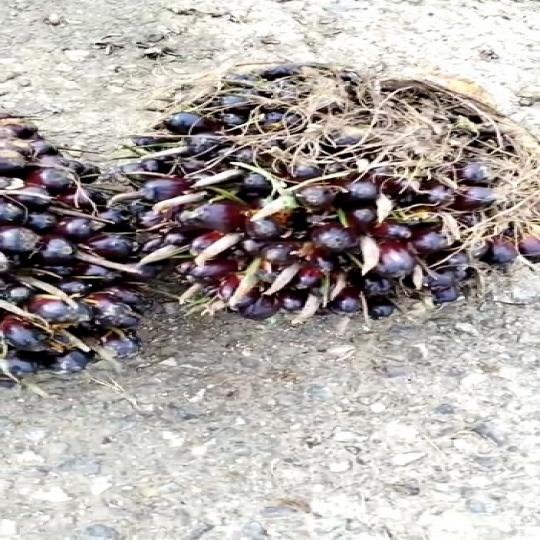mentah: (112, 63, 540, 343), (0, 87, 145, 392)
